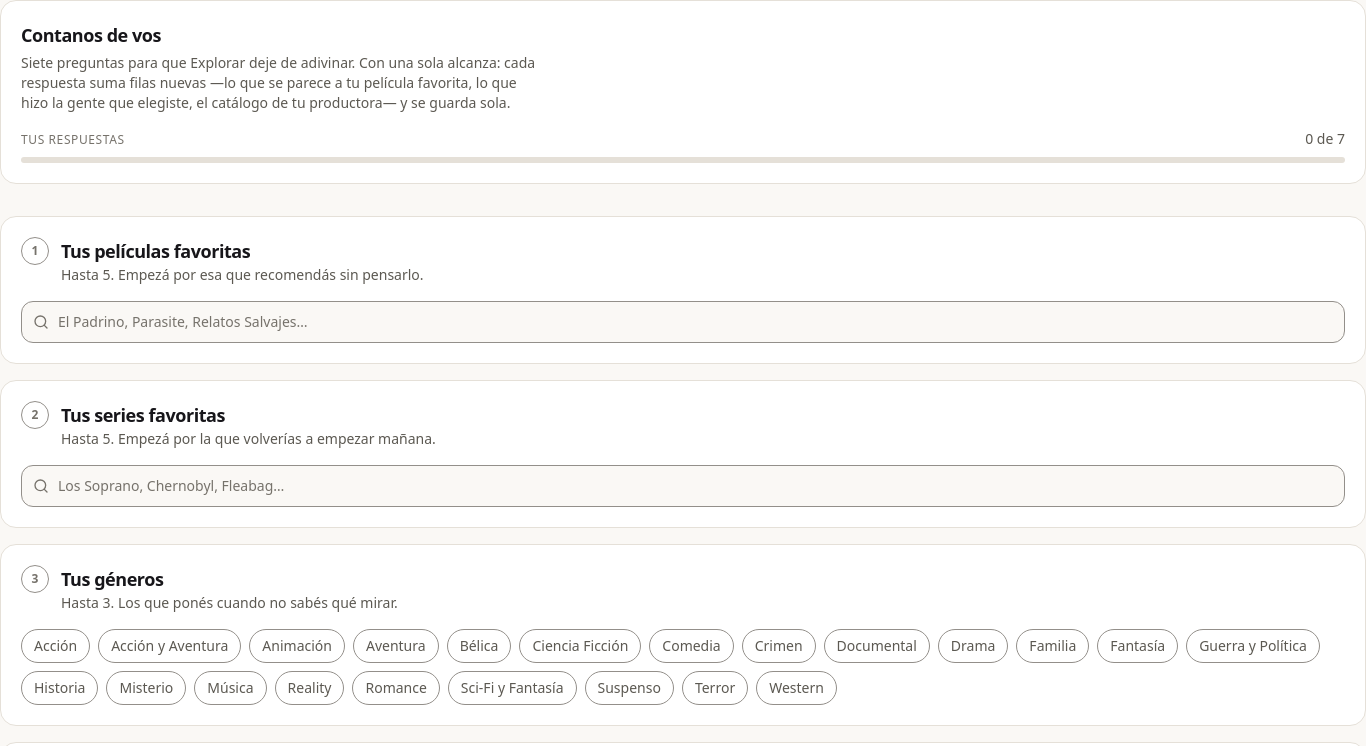
it: Contanos de vos › deja sacar la película ya elegida
The image size is (1366, 746).
In the search field named "Buscar tu película favorita": point(683, 322) left=21, top=301, right=1345, bottom=343, type "volver"
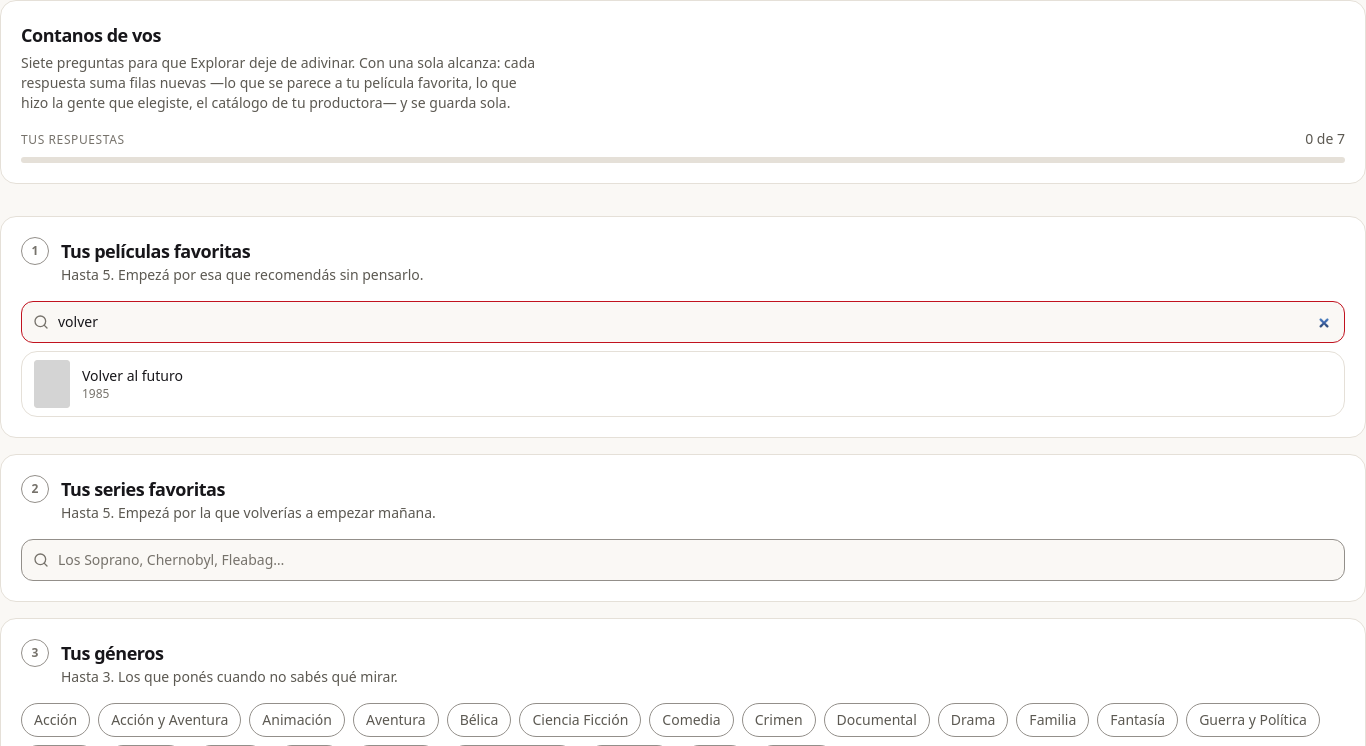
Click the button with aria-label "Elegir Volver al futuro": point(52, 384) left=22, top=352, right=1344, bottom=416
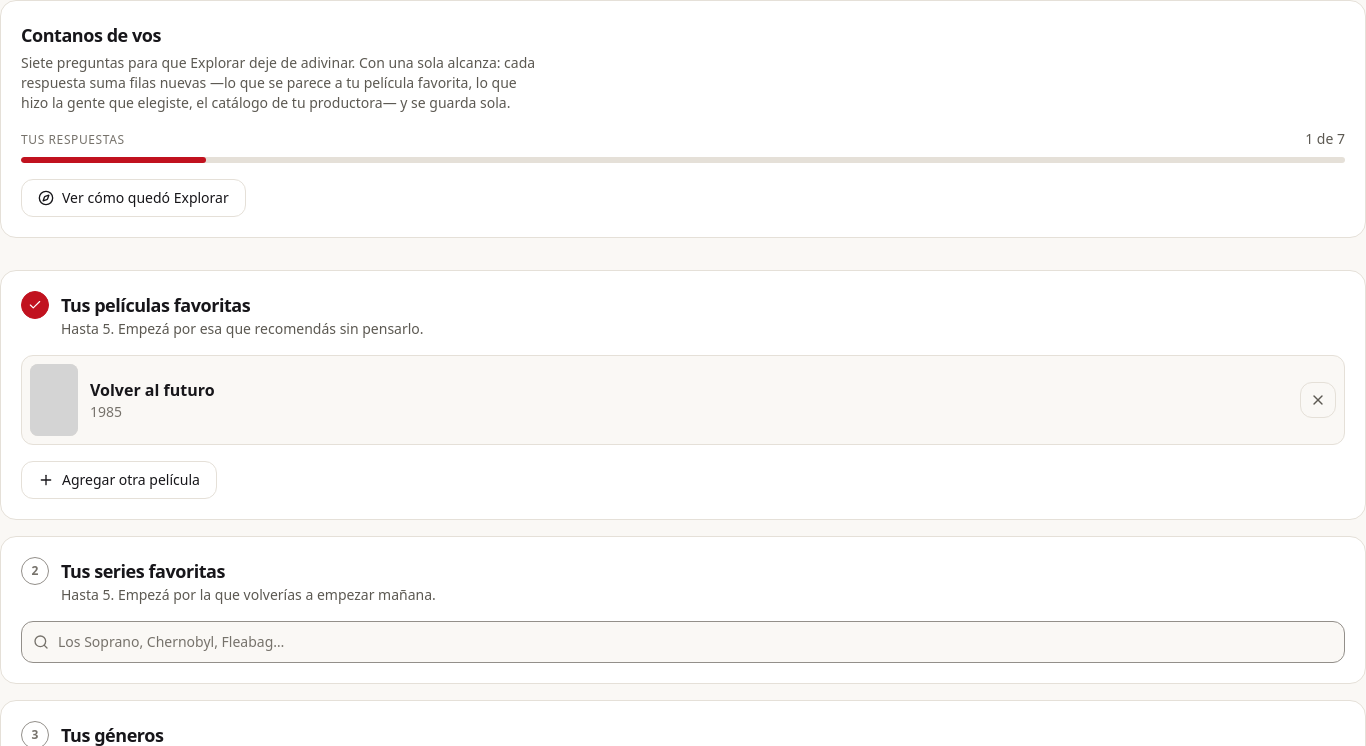
Click the button named "Sacar Volver al futuro": point(1318, 400) left=1300, top=382, right=1336, bottom=418
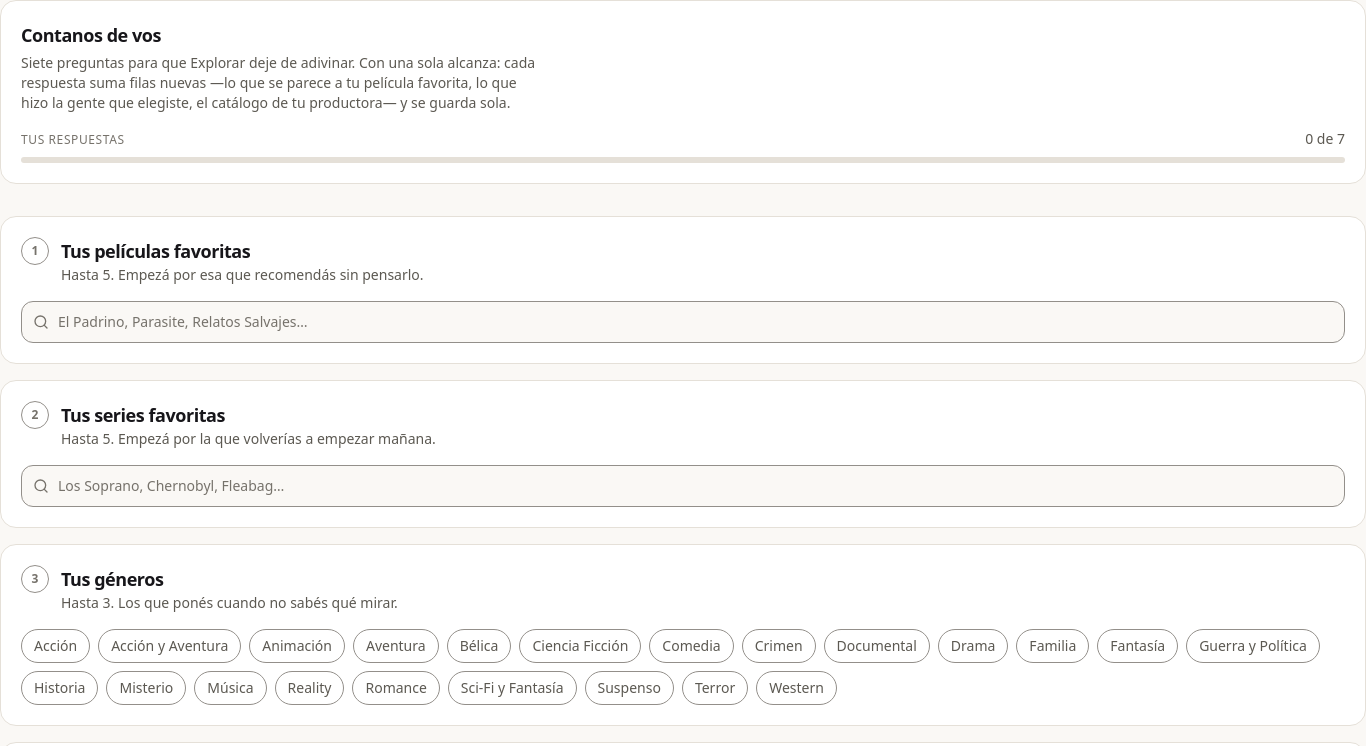
Expected: the search field named "Buscar tu película favorita" is shown, left=21, top=301, right=1345, bottom=343
